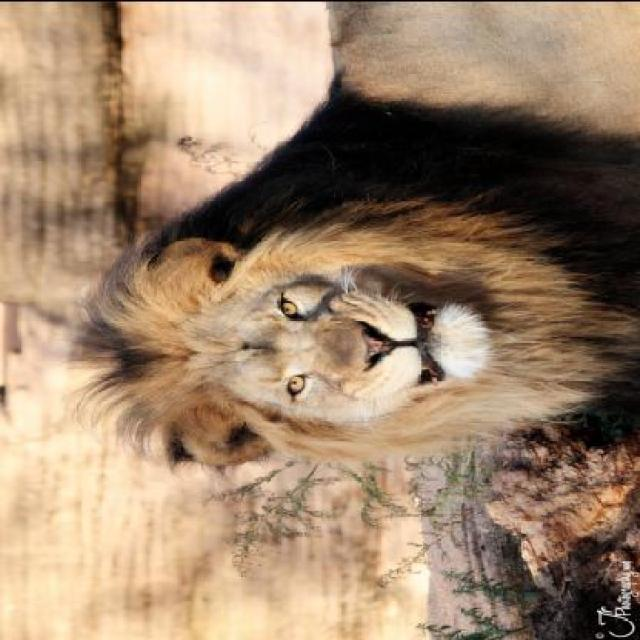Lion: (49, 2, 638, 484)
